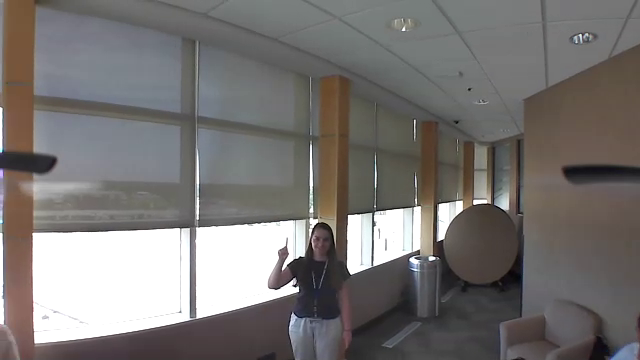up: (272, 234, 292, 264)
